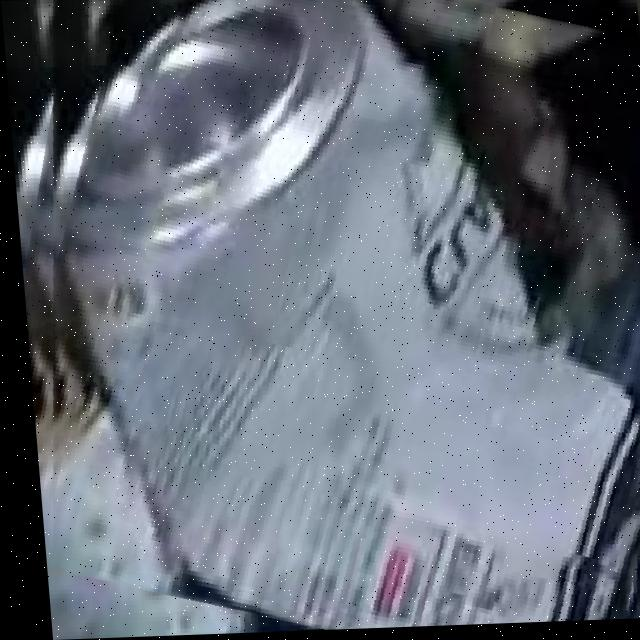can: (41, 0, 640, 632)
